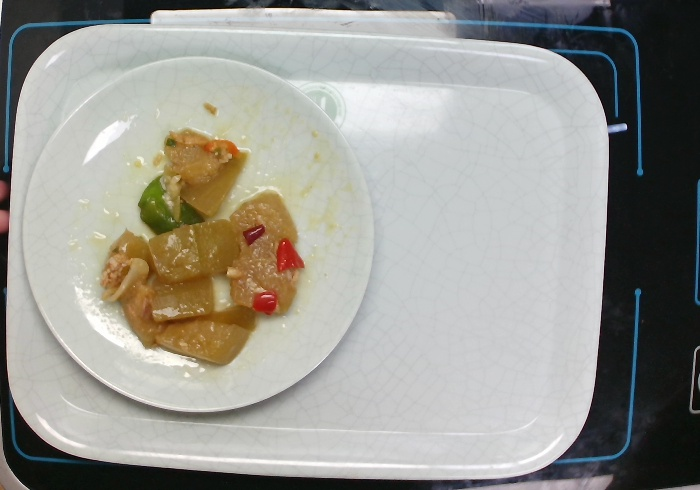JYsf-Da_Yuan_Pan: (20, 52, 383, 415)
